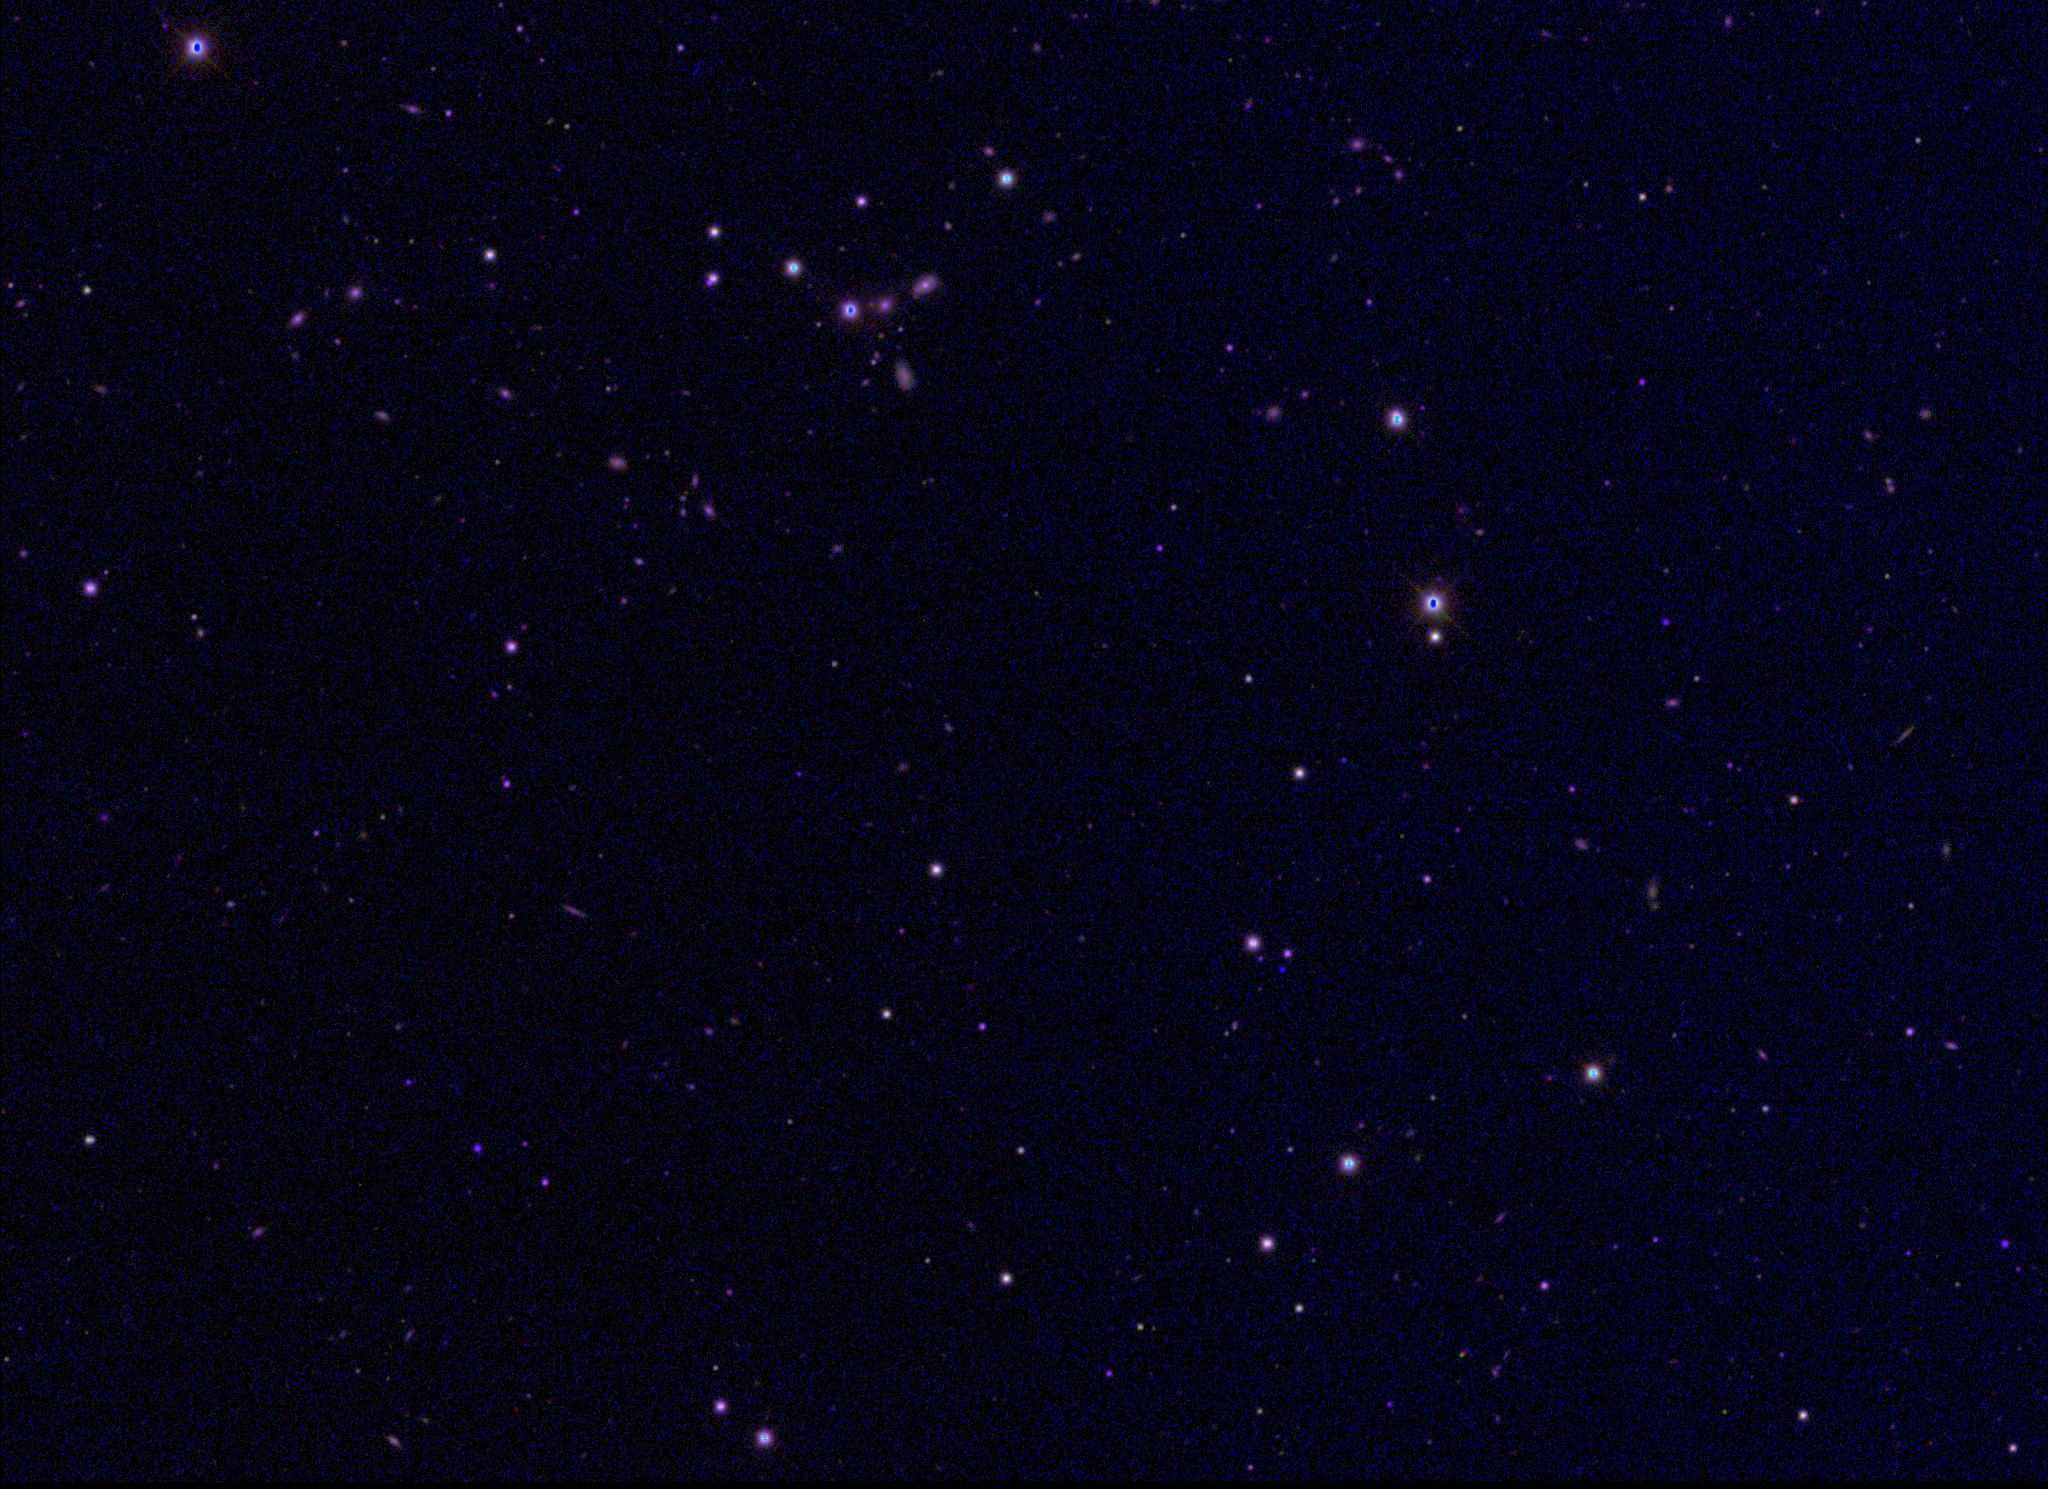L: (1275, 962, 1290, 977)
